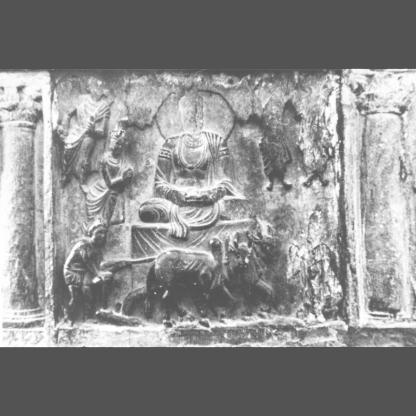buddha-sitting: (133, 76, 258, 240)
